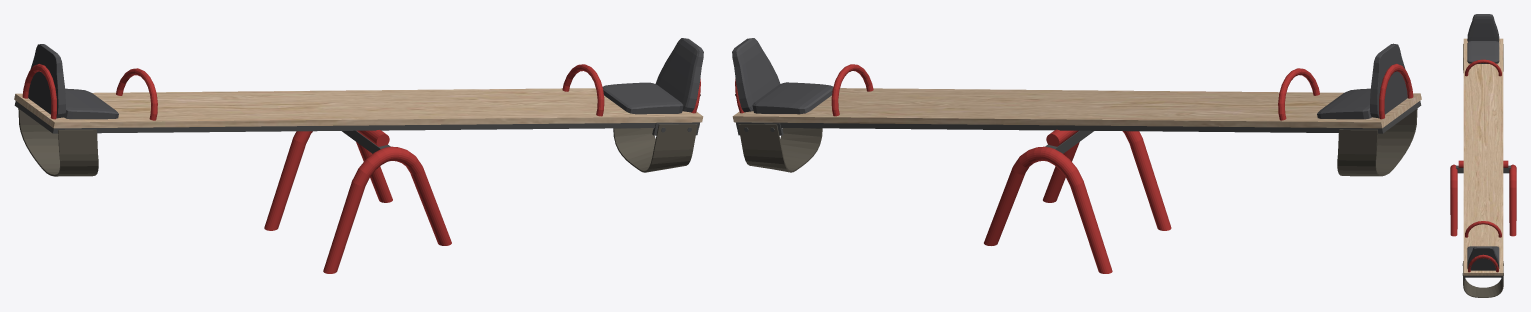
The model's file is seesaw.obj.
3 views of the same model, side by side, from view 1: azimuth 30°, elevation 25°; view 2: azimuth 150°, elevation 25°; view 3: azimuth 270°, elevation 25° (orthographic). The views are drawn at different scales.
Parts seen in each view (by area): view 1: Seesaw, Wood; view 2: Seesaw, Wood; view 3: Wood, Seesaw.
Boxes of the visible parts, box(x1,y1,x2,y2) form: Seesaw: box(14, 38, 703, 273); Wood: box(14, 88, 703, 128); Seesaw: box(732, 38, 1421, 273); Wood: box(732, 88, 1421, 128); Wood: box(1463, 38, 1503, 275); Seesaw: box(1450, 14, 1516, 297).
Size of the model in its own units: 240 by 90.73 by 41.65.
